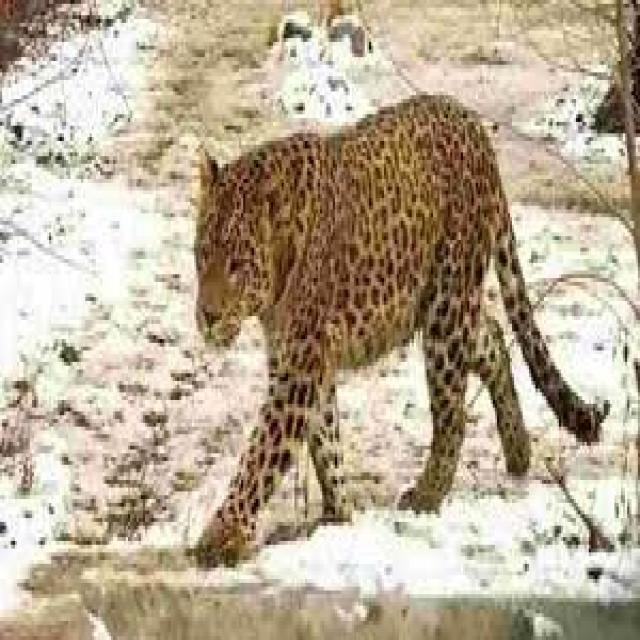leopard: (194, 95, 602, 556)
